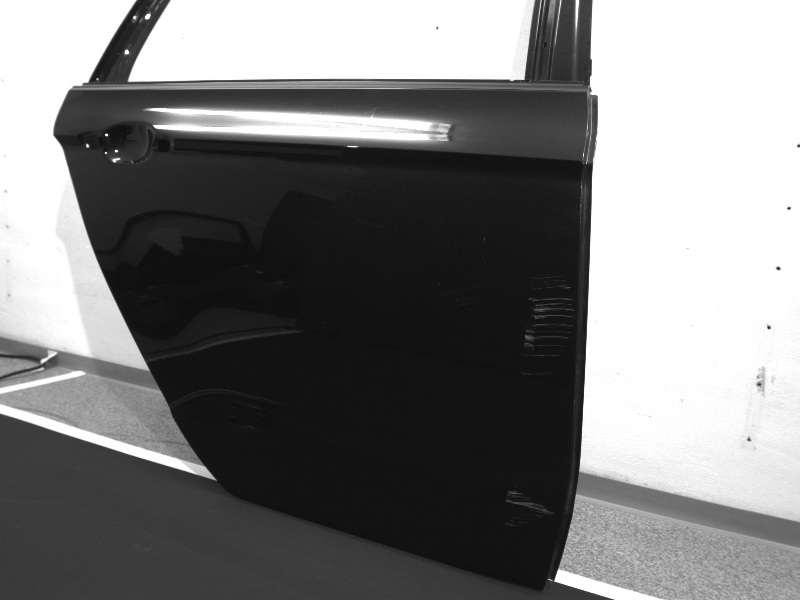scratch: (521, 274, 575, 376), (503, 489, 558, 527), (441, 284, 485, 309), (352, 219, 382, 227), (241, 217, 264, 227)
